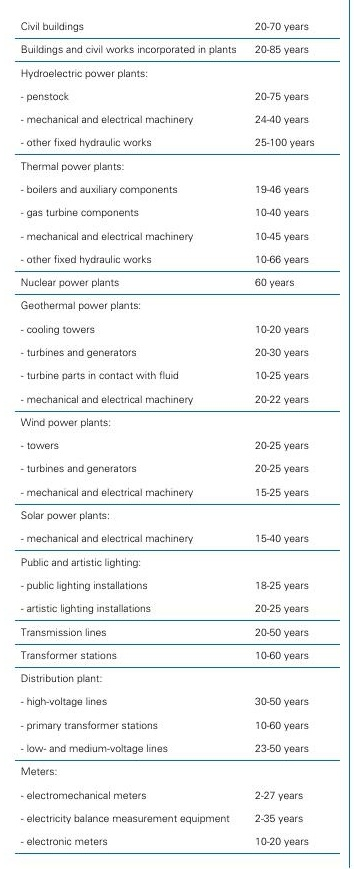table: (0, 0, 354, 869)
